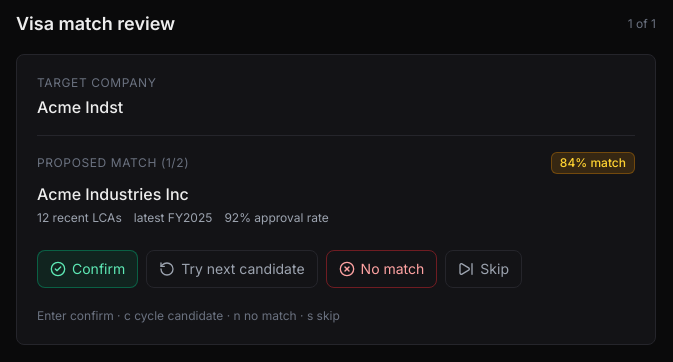
Test case: VisaMatchReview — multiple candidates › 'Try next candidate' cycles the displayed candidate without writing to Supabase
Expected: the text "Acme Industries Inc" is shown, [37, 184, 189, 204]
Click the button "Try next candidate": (232, 269) [146, 250, 318, 288]
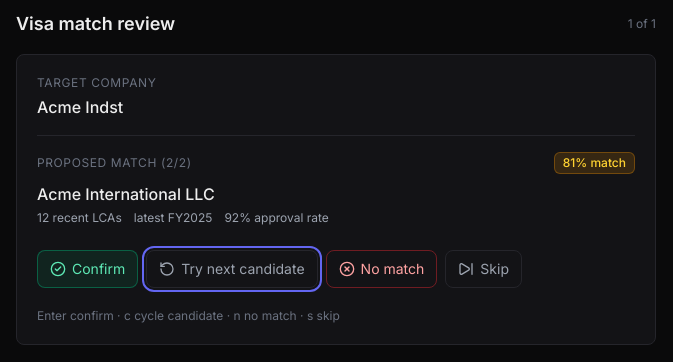
Expected: the text "Acme International LLC" is shown, [37, 184, 215, 204]
